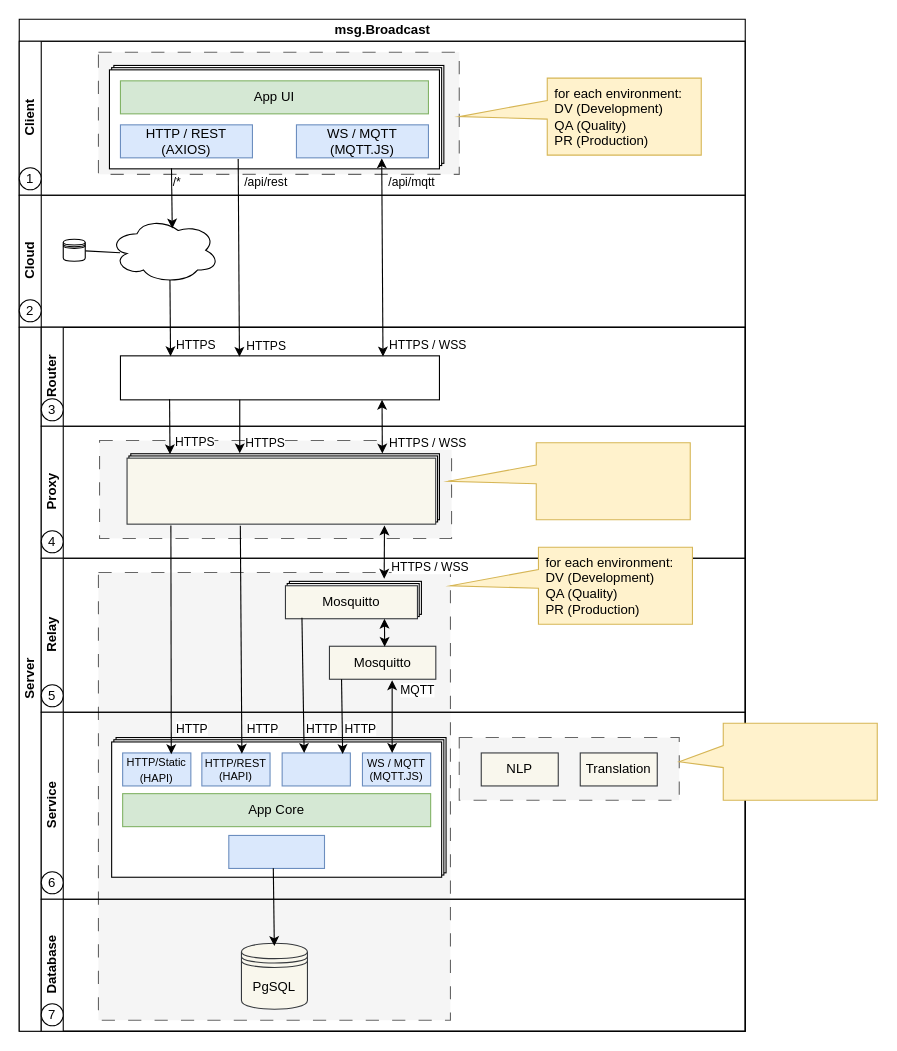
The diagram is 897 pixels wide and 1051 high, and some of its shapes have lost their labels. Each missing label, with the centre of its shape:
AI (Artificial Intelligence): the point at 777,761
Cloudflare (CDN): the point at 163,249
CO (Common): the point at 568,481
HAPROXY: the point at 281,490
MQ-AUTH (HAPI): the point at 315,769
NFTables: the point at 279,377
RDS Sequelize: the point at 276,851
